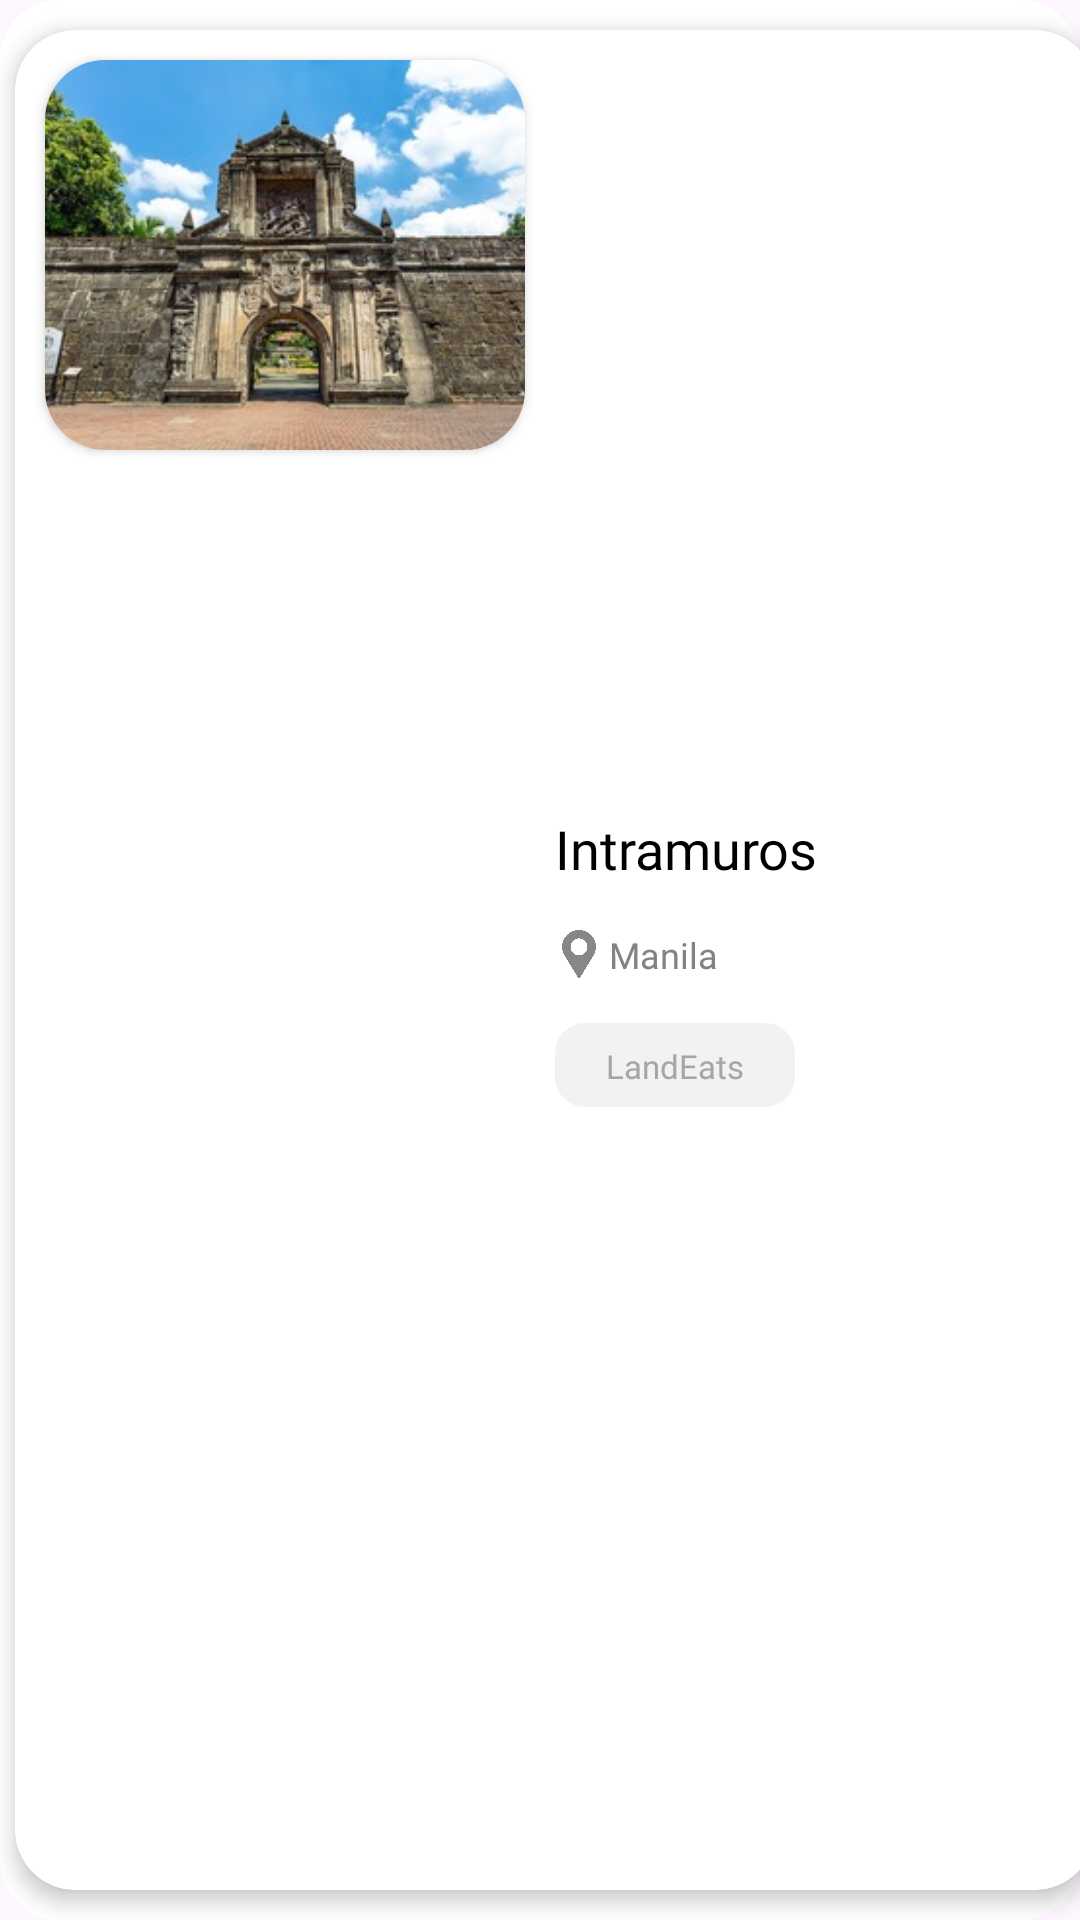

Icons on this 1080px×1920px Android screen, each with the point to tap as [x,y]:
profilemenu location: [579,954]
